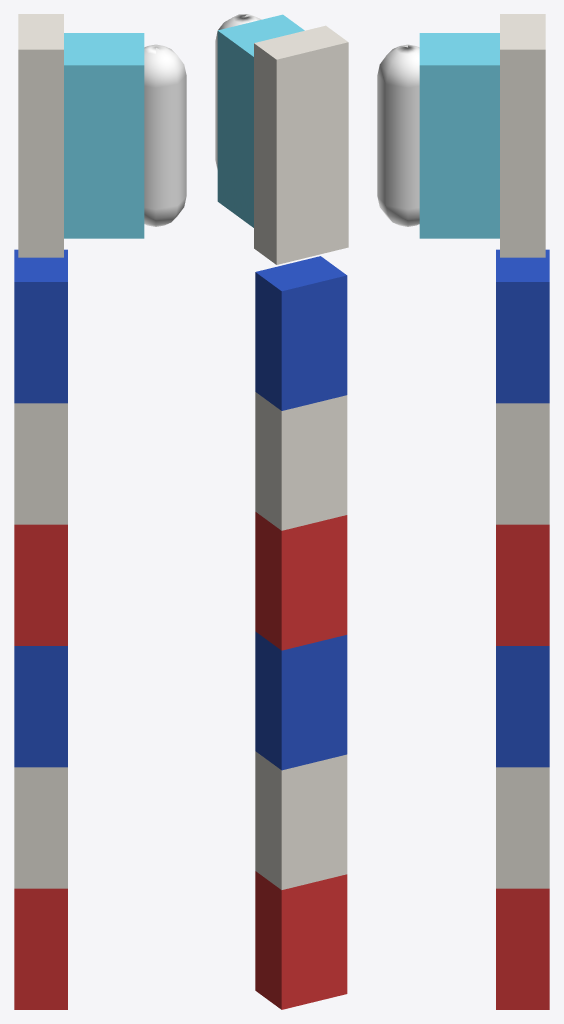
Rendered from gag_brush.glb.
The picture shows the model from 3 angles, left to right: view 1: azimuth 90°, elevation 25°; view 2: azimuth 210°, elevation 25°; view 3: azimuth 270°, elevation 25°; orthographic projection.
Visible parts, largest first — view 1: gag_brush; view 2: gag_brush; view 3: gag_brush.
Part boxes in pixels (<box>): gag_brush: <box>14,14,186,1009</box>; gag_brush: <box>215,14,348,1009</box>; gag_brush: <box>377,14,549,1009</box>.
Size of the model in its own units: 0.022 by 0.2775 by 0.045.
